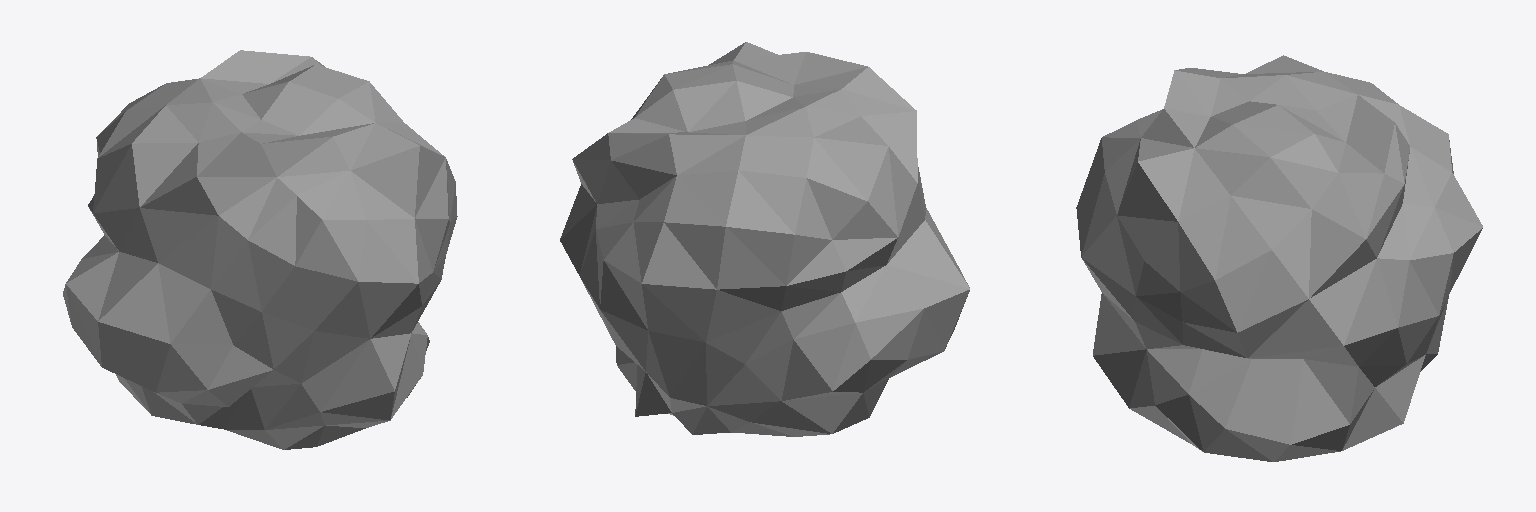
Rendered from rock.obj.
3 renders of one model, left to right at view 1: azimuth 30°, elevation 25°; view 2: azimuth 150°, elevation 25°; view 3: azimuth 270°, elevation 25°, orthographic.
Visible parts, largest first — view 1: Cube.001; view 2: Cube.001; view 3: Cube.001.
Boxes of the visible parts, <box> form: Cube.001: <box>63,50,457,449</box>; Cube.001: <box>560,42,969,436</box>; Cube.001: <box>1076,55,1482,461</box>.
Size of the model in its own units: 0.9244 by 0.8177 by 0.9043.